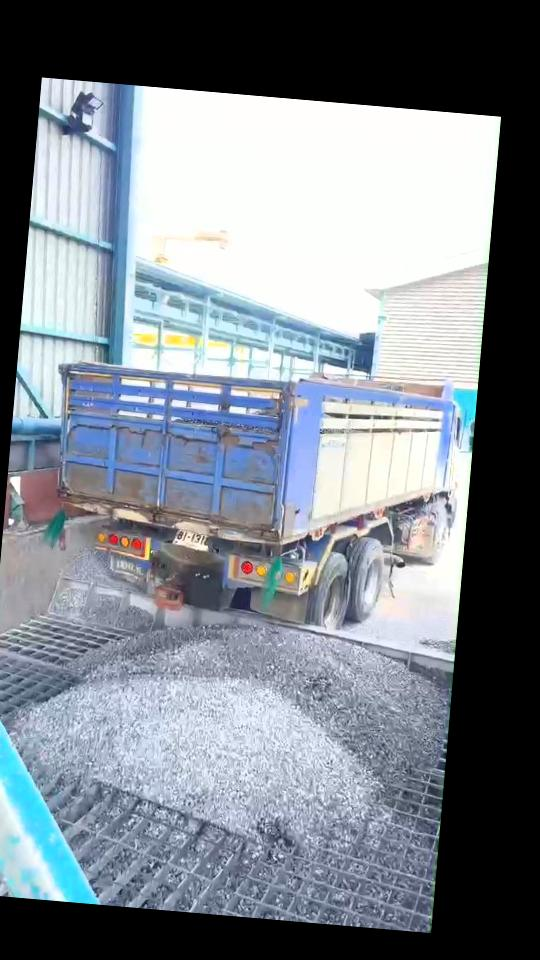gravel: (14, 627, 447, 844), (47, 549, 155, 632)
